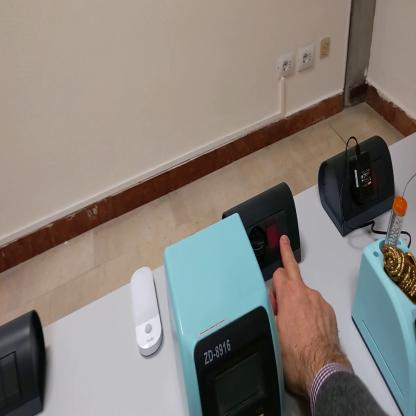hand: (269, 235, 344, 395)
socket: (317, 136, 396, 238), (224, 182, 303, 282)
welder base: (358, 196, 416, 416)
welder station: (165, 211, 288, 415)
